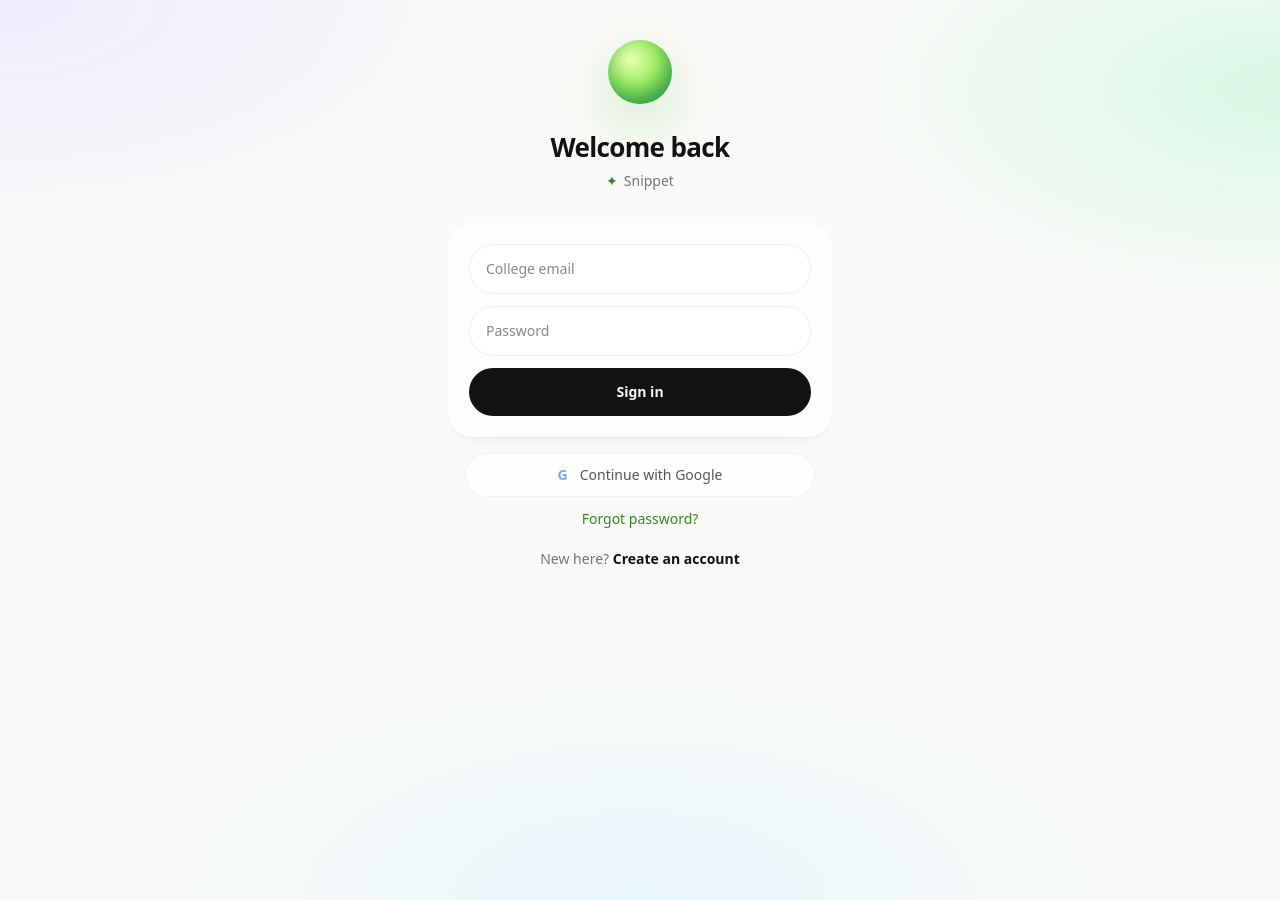
AuthPage Login Error Handling › 5. Displays server error message on HTTP 500
This screenshot has width=1280, height=900.
In the field with placeholder "College email": (640, 269) [469,244,811,294], type "student@ustu.edu.in"
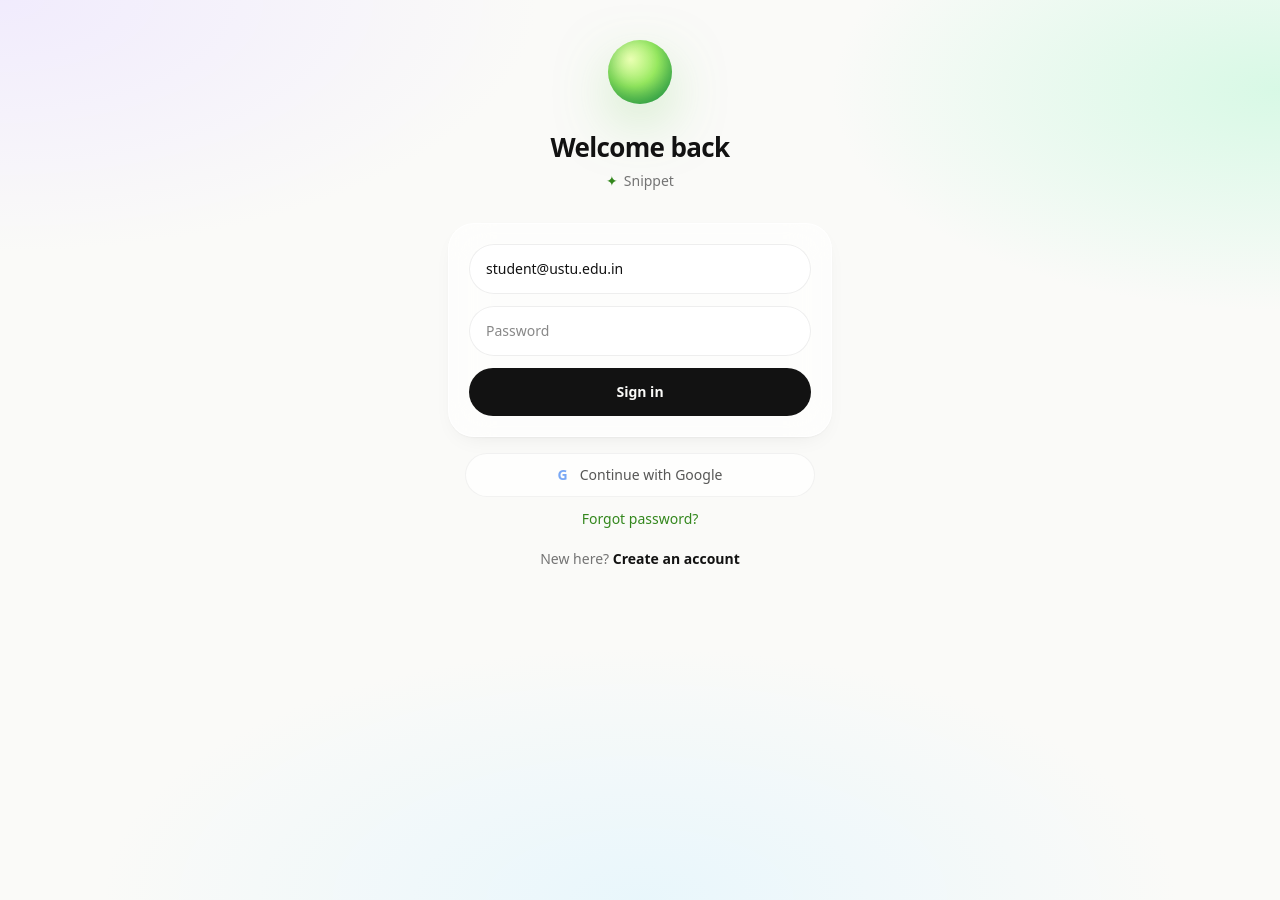
In the password field with placeholder "Password": (640, 331) [469,306,811,356], type "secret123"
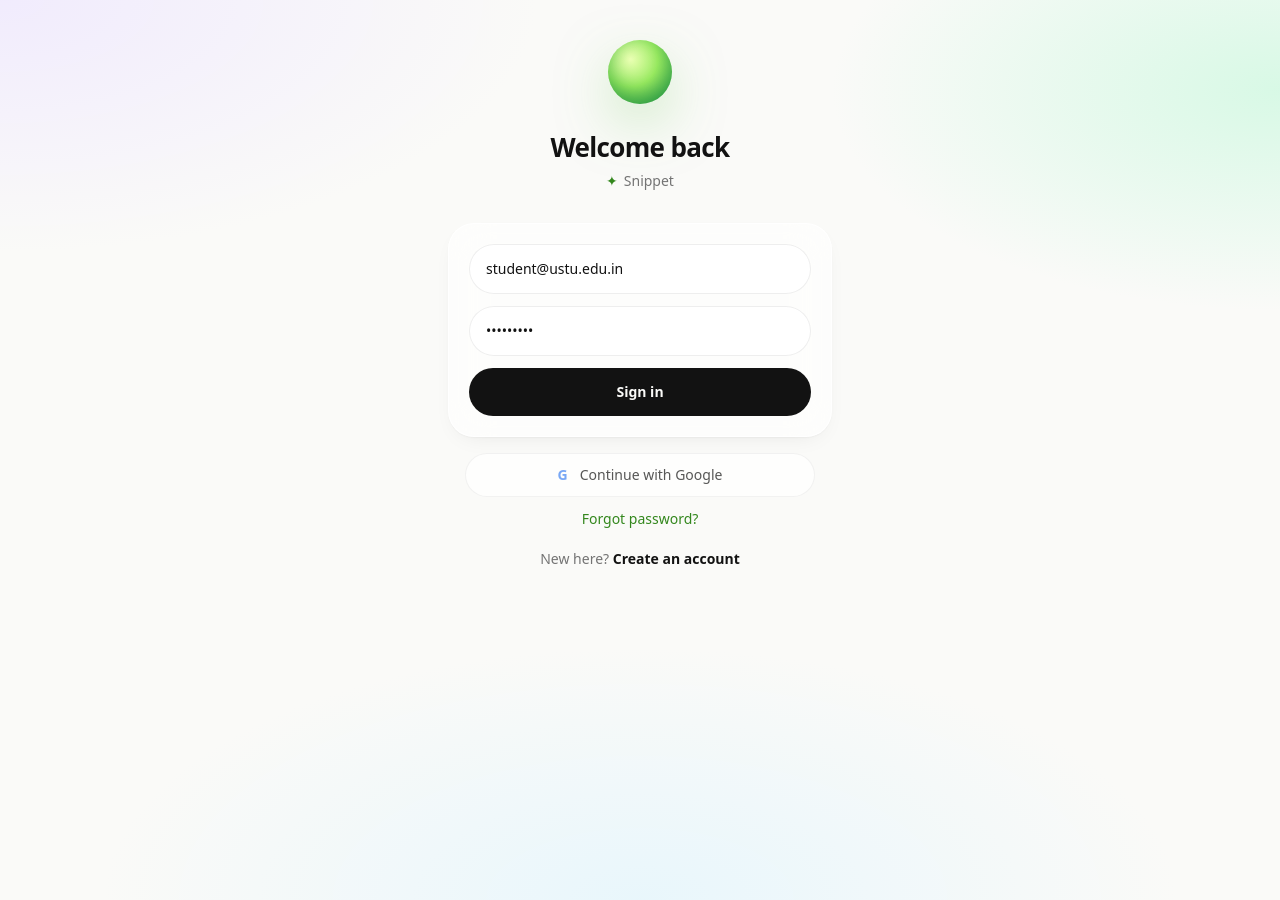
Click the button "Sign in": (640, 392) [469,368,811,416]
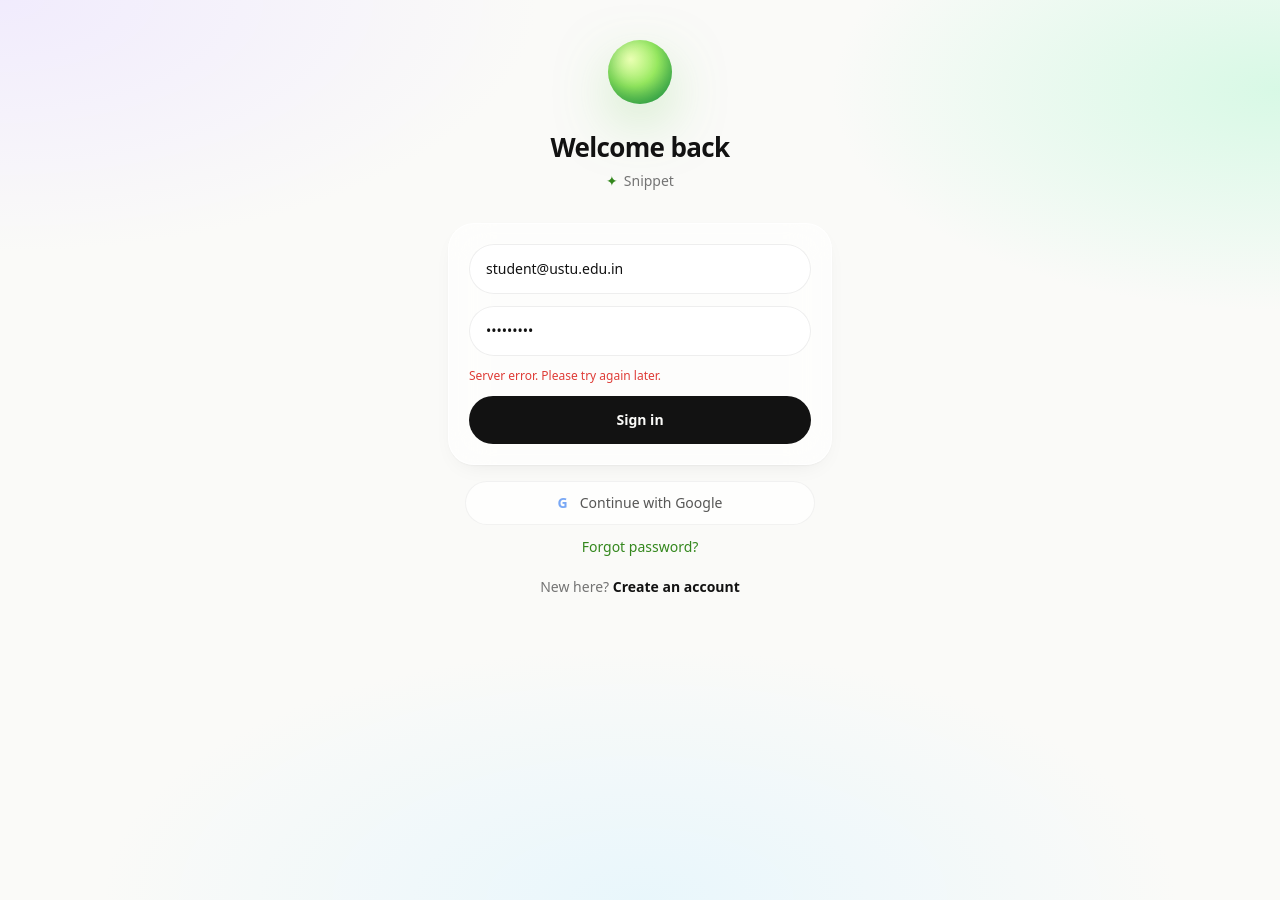
Expected: the text "Server error. Please try again later." is shown, [469,367,661,384]
